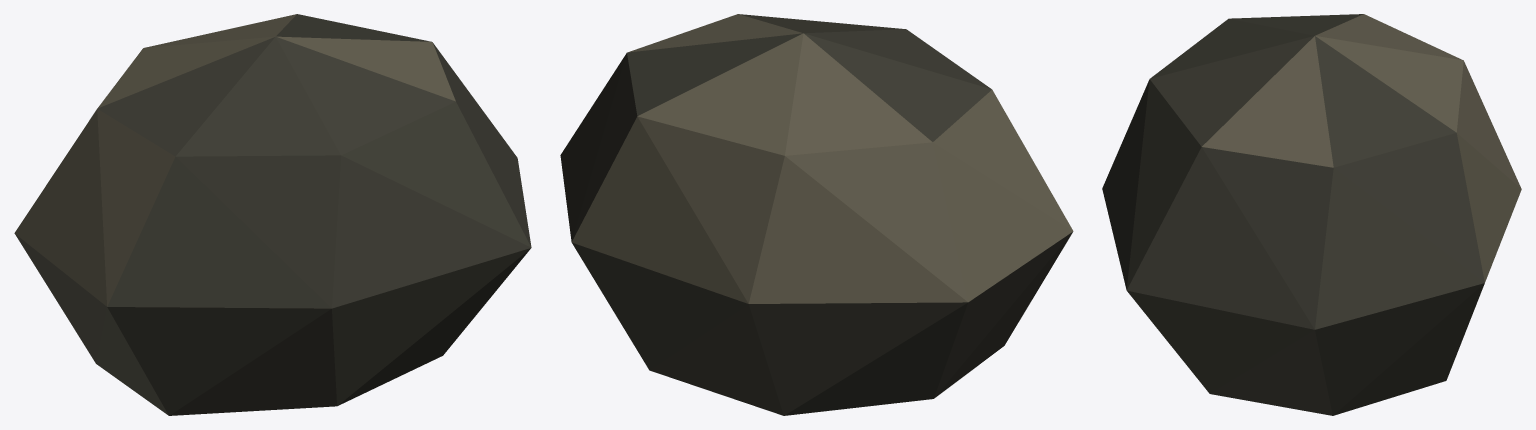
File: Rock_Pebble_02.fbx
3 renders of one model, left to right at view 1: azimuth 30°, elevation 25°; view 2: azimuth 150°, elevation 25°; view 3: azimuth 270°, elevation 25°, orthographic.
Parts seen in each view (by area): view 1: Rock_Pebble_02_Mesh; view 2: Rock_Pebble_02_Mesh; view 3: Rock_Pebble_02_Mesh.
Boxes of the visible parts, x1,y1,x2,y2 form: Rock_Pebble_02_Mesh: (14, 14, 531, 415); Rock_Pebble_02_Mesh: (560, 14, 1073, 415); Rock_Pebble_02_Mesh: (1102, 14, 1521, 415).
Size of the model in its own units: 0.3207 by 0.24 by 0.2568.
Materials: 1 (1 with a texture image).
